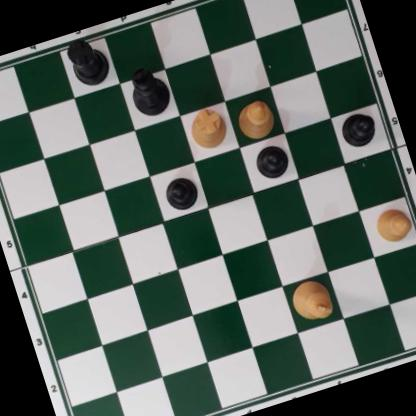black-king: (124, 61, 176, 122)
black-pawn: (335, 106, 380, 151), (159, 171, 203, 215), (251, 139, 293, 183)
black-rook: (61, 32, 116, 91)
white-bishop: (233, 97, 278, 144)
white-king: (285, 274, 337, 327)
white-pawn: (369, 201, 415, 247)
white-rook: (185, 103, 232, 154)
